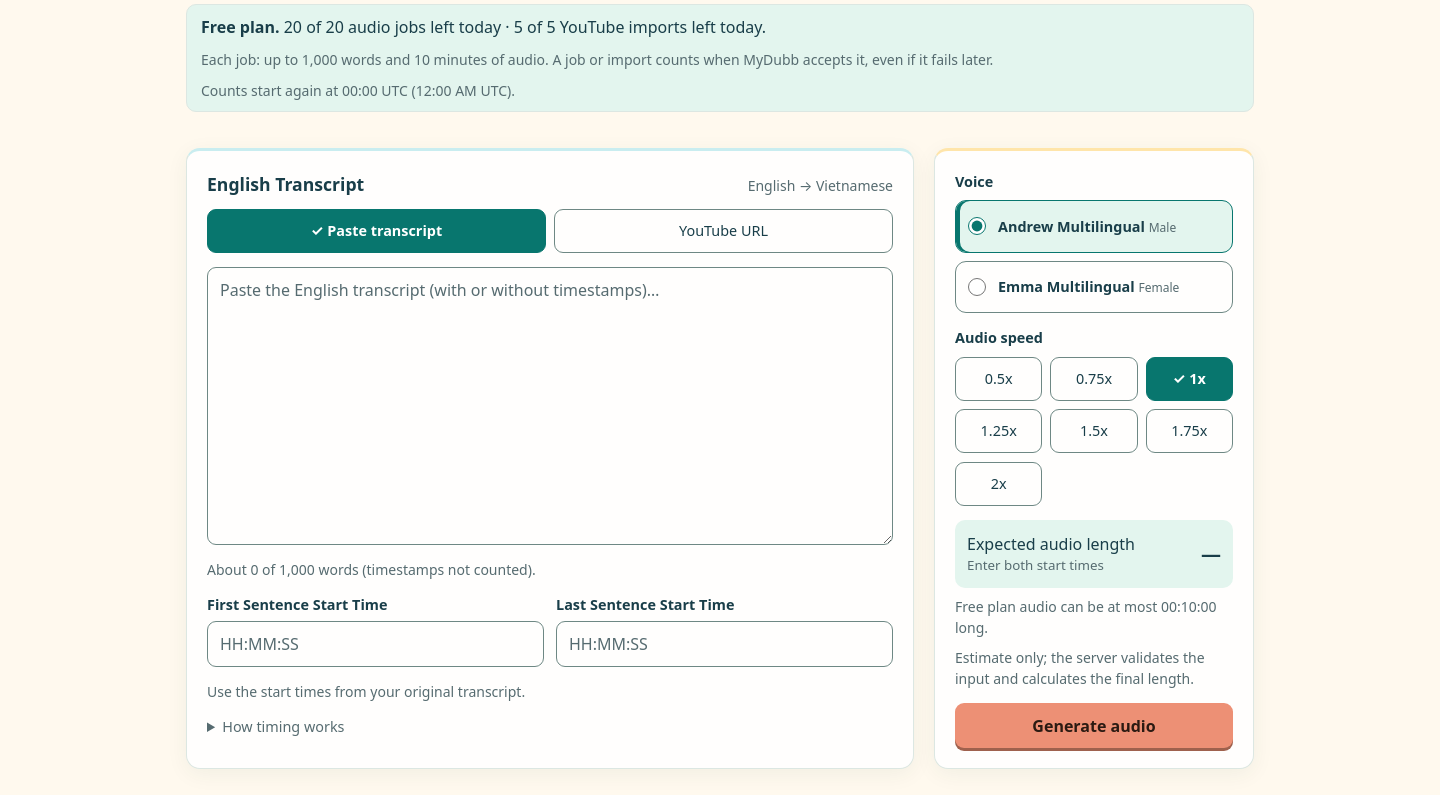
the plan banner › previews the plan's word and audio limits in the form
The image size is (1440, 795).
(page scrolled)
Check: the element named "Your plan" is shown, box [186, 4, 1254, 112]
Type "one two three" into the text box labelled "English Transcript" at (550, 406), box [207, 267, 893, 545]
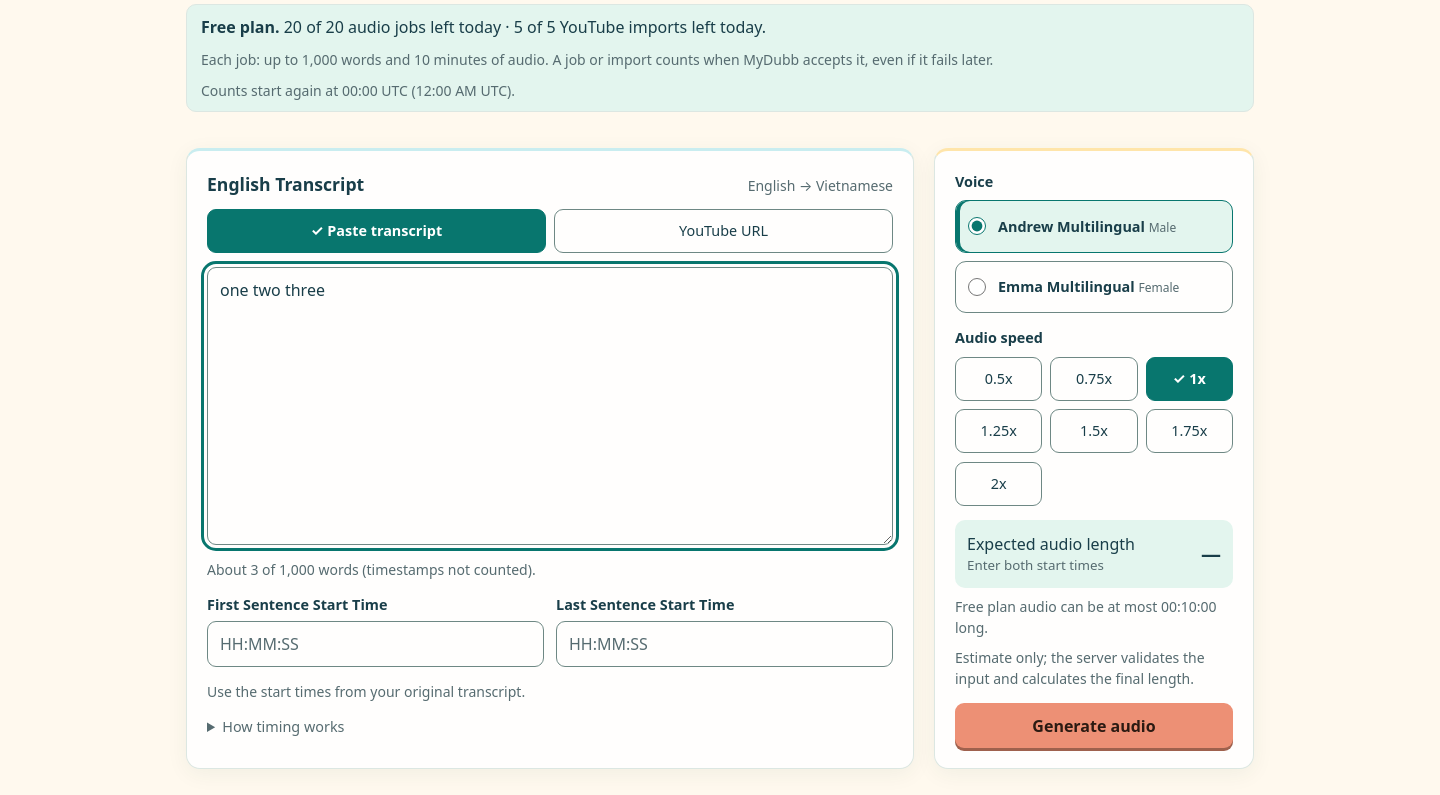
Check: the text "Free plan audio can be at most 00:10:00 long." is shown, box [955, 596, 1233, 639]
Check: the text "About 3 of 1,000 words (timestamps not counted)." is shown, box [207, 560, 536, 579]
